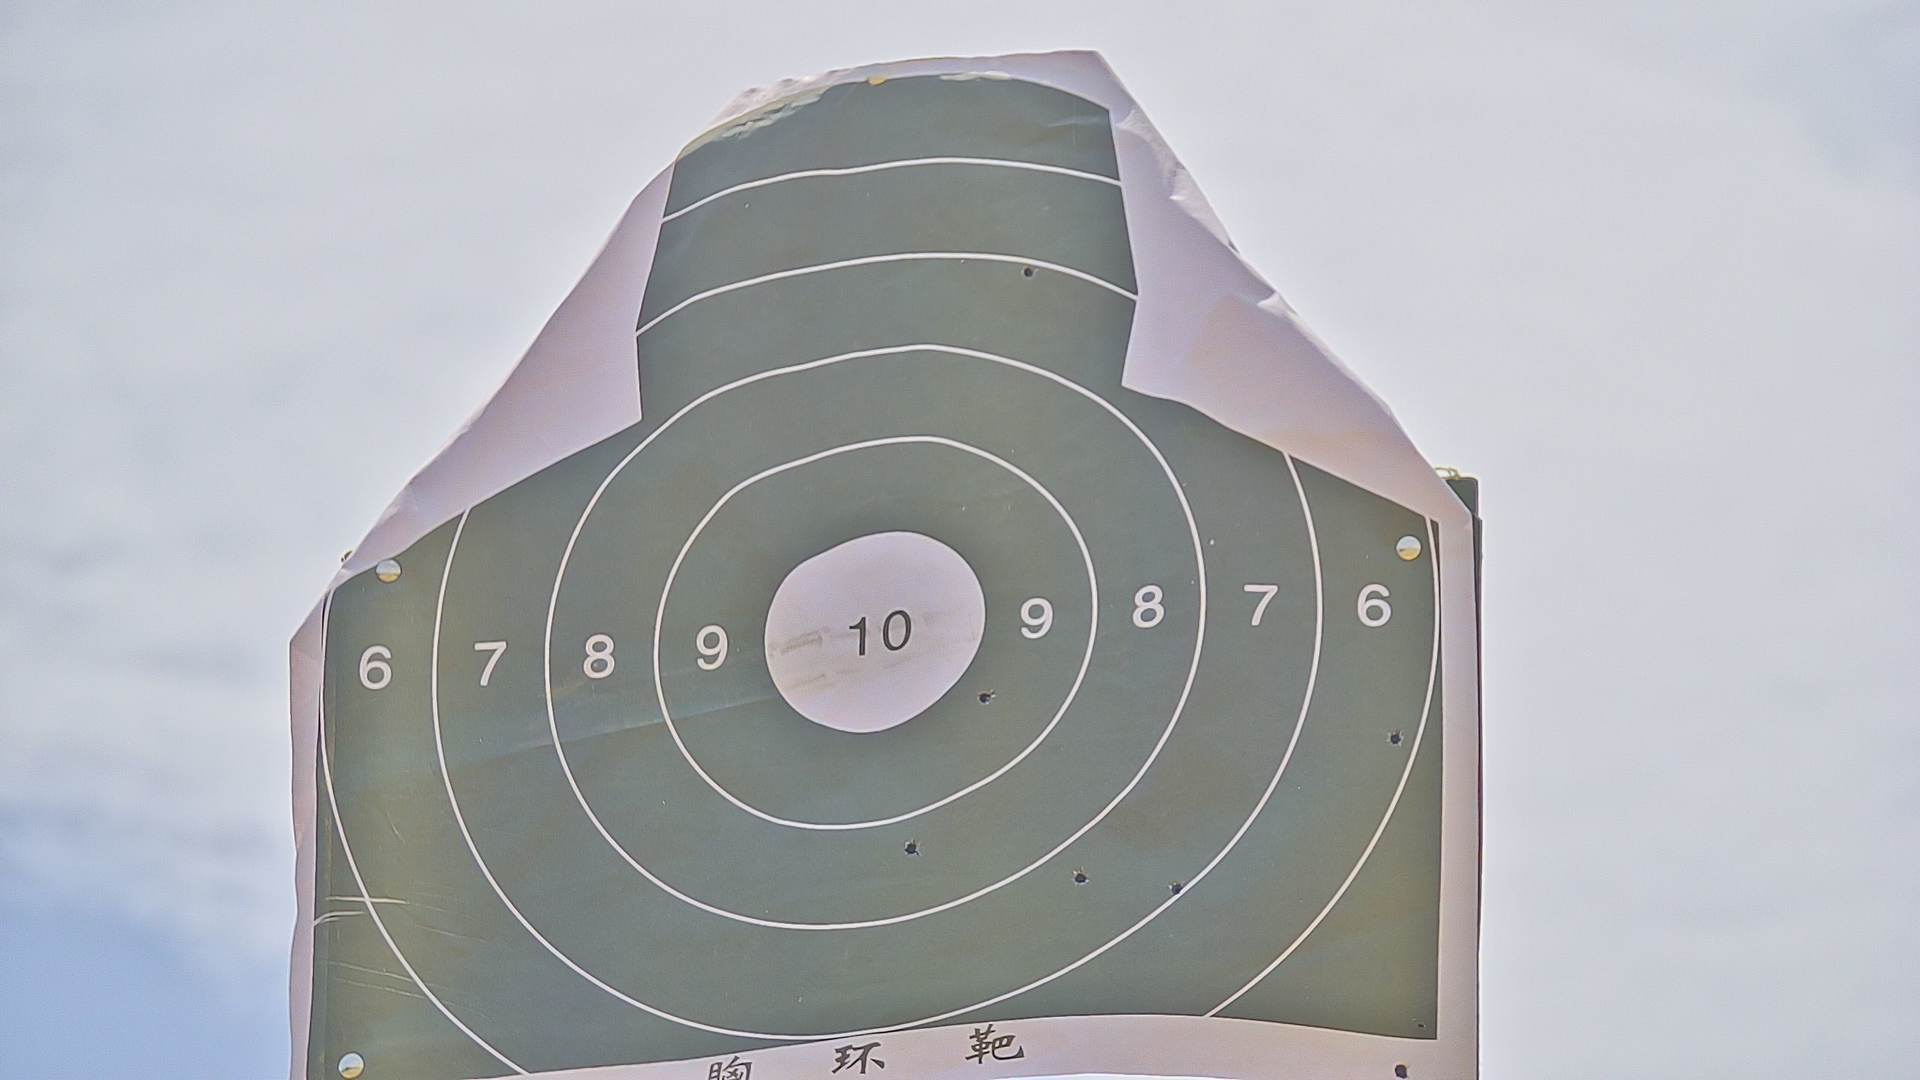hole: (1382, 724, 1407, 753), (895, 833, 920, 860), (1068, 866, 1089, 894), (978, 684, 998, 705), (1018, 258, 1036, 281), (1167, 877, 1185, 899)
kernel: (872, 628, 878, 636)
target: (307, 82, 1451, 1080)
ten: (760, 529, 990, 738)
